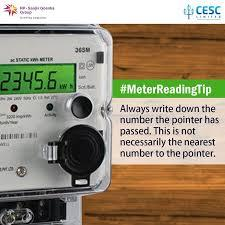.: (58, 82, 74, 91)
0: (42, 86, 49, 92)
3: (0, 70, 12, 91)
4: (11, 69, 22, 91)
5: (23, 70, 34, 91)
6: (34, 71, 43, 92)
7: (47, 63, 66, 92)
